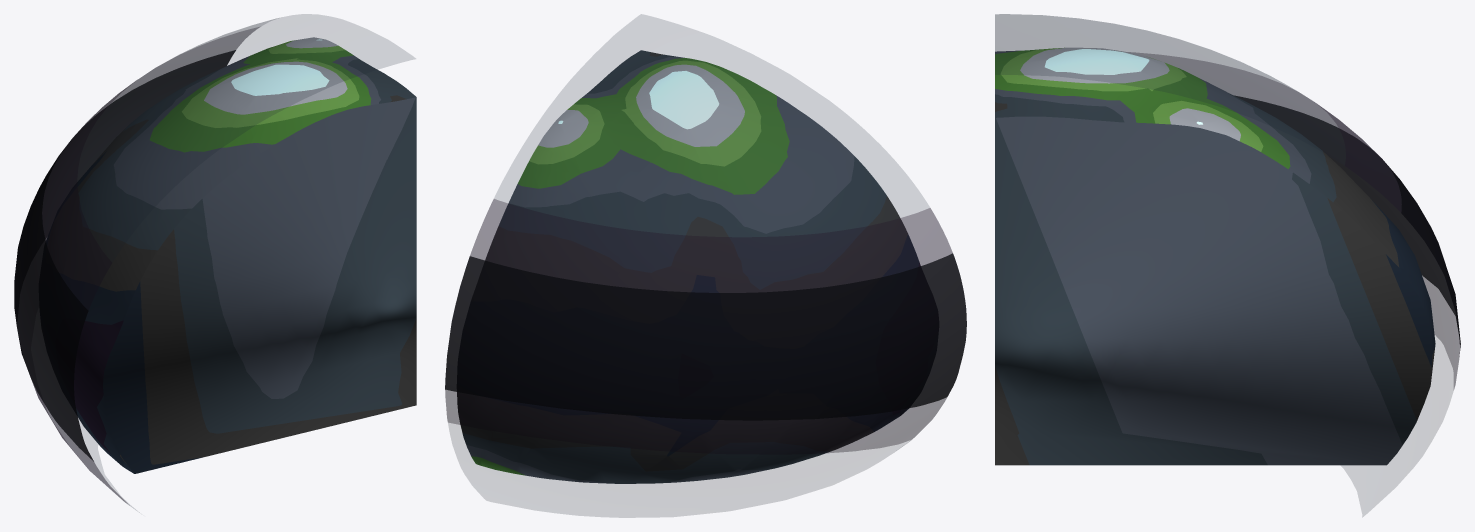
Rendered from glass_globe_tl_241.glb.
3 renders of one model, left to right at view 1: azimuth 30°, elevation 25°; view 2: azimuth 150°, elevation 25°; view 3: azimuth 270°, elevation 25°, orthographic. The views are drawn at different scales.
Visible parts, largest first — view 1: glass_globe_tl; view 2: glass_globe_tl; view 3: glass_globe_tl.
Boxes of the visible parts, x1,y1,x2,y2 form: glass_globe_tl: [14, 14, 416, 510]; glass_globe_tl: [445, 14, 966, 517]; glass_globe_tl: [995, 14, 1460, 516].
Size of the model in its own units: 22.9 by 25.11 by 23.9.
